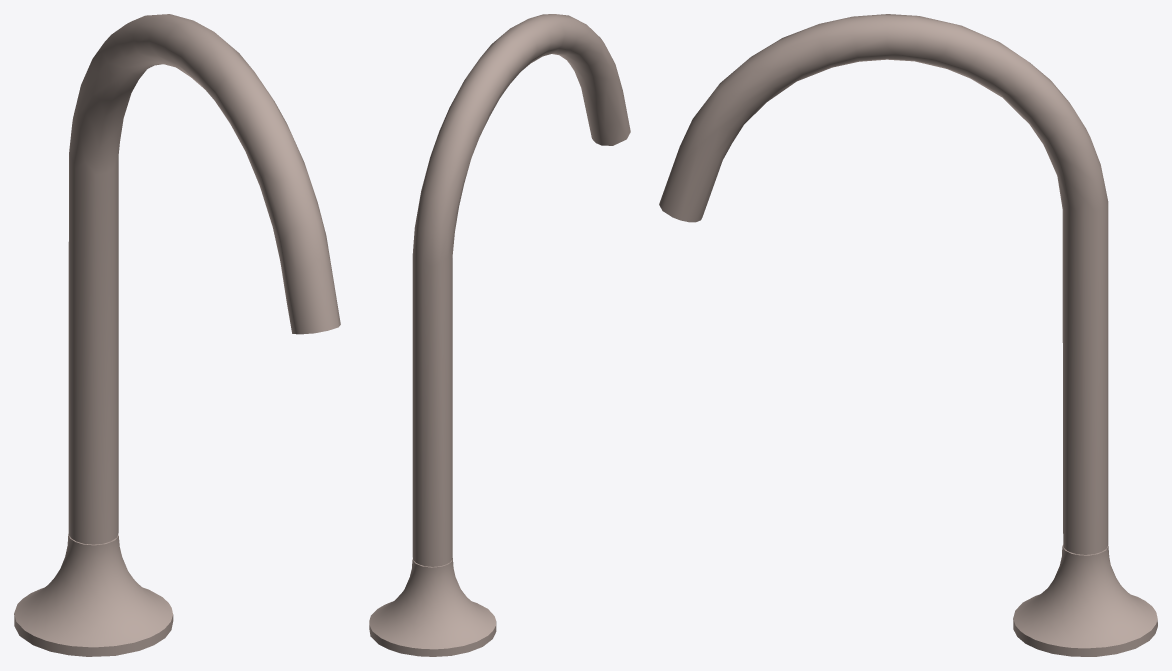
3 renders of one model, left to right at view 1: azimuth 30°, elevation 25°; view 2: azimuth 150°, elevation 25°; view 3: azimuth 270°, elevation 25°, orthographic. The views are drawn at different scales.
Visible parts, largest first — view 1: L_5d4efa89_779e_4f6f_84eb_1e48ffb96715_I2, L_afde61bf_8ec3_4fd9_a7a9_9b6805504fb0_I3; view 2: L_5d4efa89_779e_4f6f_84eb_1e48ffb96715_I2, L_afde61bf_8ec3_4fd9_a7a9_9b6805504fb0_I3; view 3: L_5d4efa89_779e_4f6f_84eb_1e48ffb96715_I2, L_afde61bf_8ec3_4fd9_a7a9_9b6805504fb0_I3.
Part boxes in pixels (bbox=[...]): L_5d4efa89_779e_4f6f_84eb_1e48ffb96715_I2: bbox=[68, 14, 340, 543]; L_afde61bf_8ec3_4fd9_a7a9_9b6805504fb0_I3: bbox=[14, 534, 173, 656]; L_5d4efa89_779e_4f6f_84eb_1e48ffb96715_I2: bbox=[412, 14, 630, 566]; L_afde61bf_8ec3_4fd9_a7a9_9b6805504fb0_I3: bbox=[369, 558, 496, 656]; L_5d4efa89_779e_4f6f_84eb_1e48ffb96715_I2: bbox=[659, 14, 1108, 554]; L_afde61bf_8ec3_4fd9_a7a9_9b6805504fb0_I3: bbox=[1013, 545, 1157, 656].
Size of the model in its own units: 0.0601 by 0.2802 by 0.2075.
